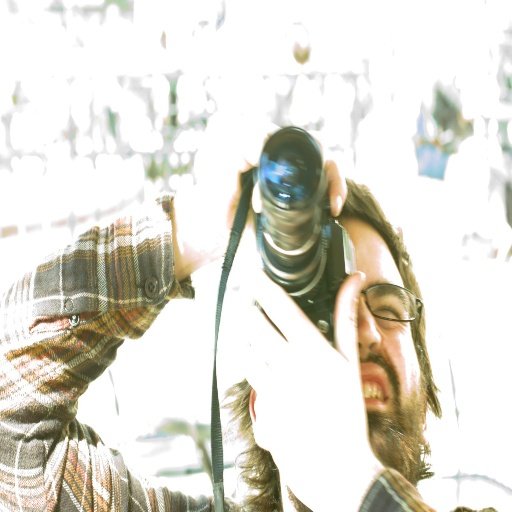hand: (230, 261, 369, 511), (185, 110, 346, 255)
